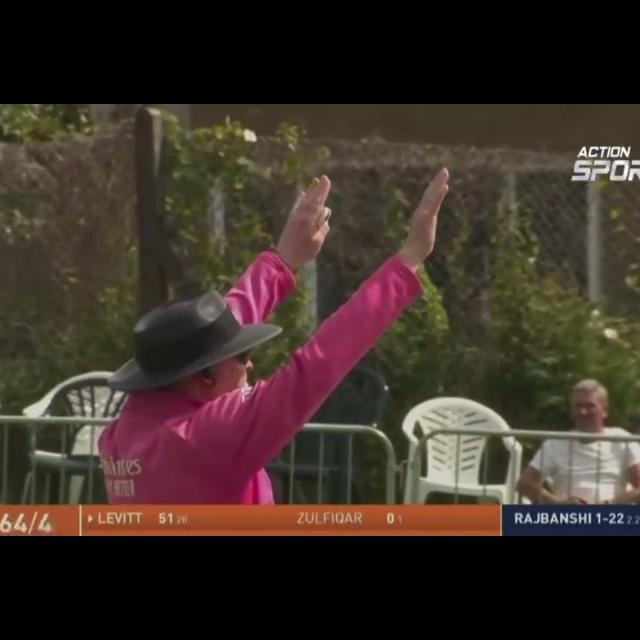umpire: (102, 146, 495, 505)
